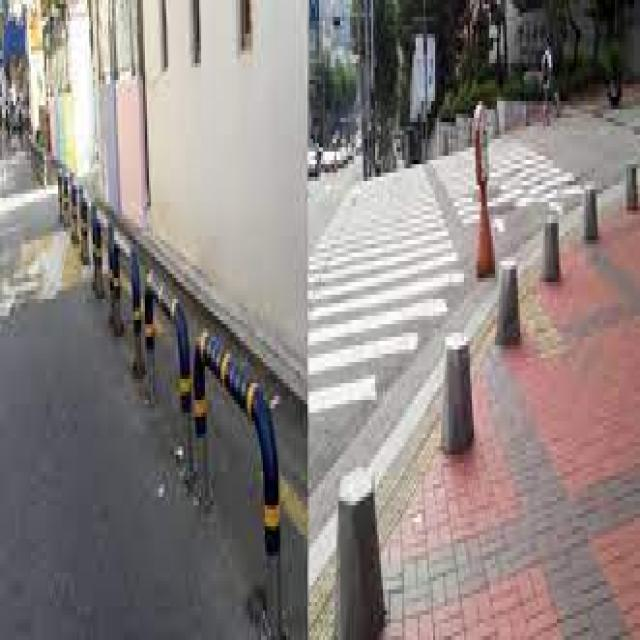bollard: (192, 321, 290, 638), (144, 260, 191, 483), (335, 458, 387, 640), (106, 217, 143, 381), (435, 325, 477, 460), (494, 253, 522, 349), (90, 194, 109, 306), (68, 180, 90, 266), (541, 211, 562, 285), (582, 181, 601, 245), (55, 160, 69, 228), (625, 156, 640, 215)
